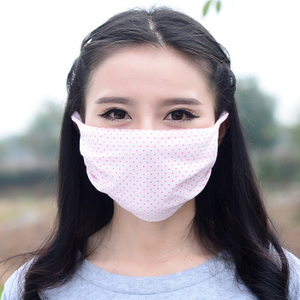face_mask: (81, 49, 215, 210)
